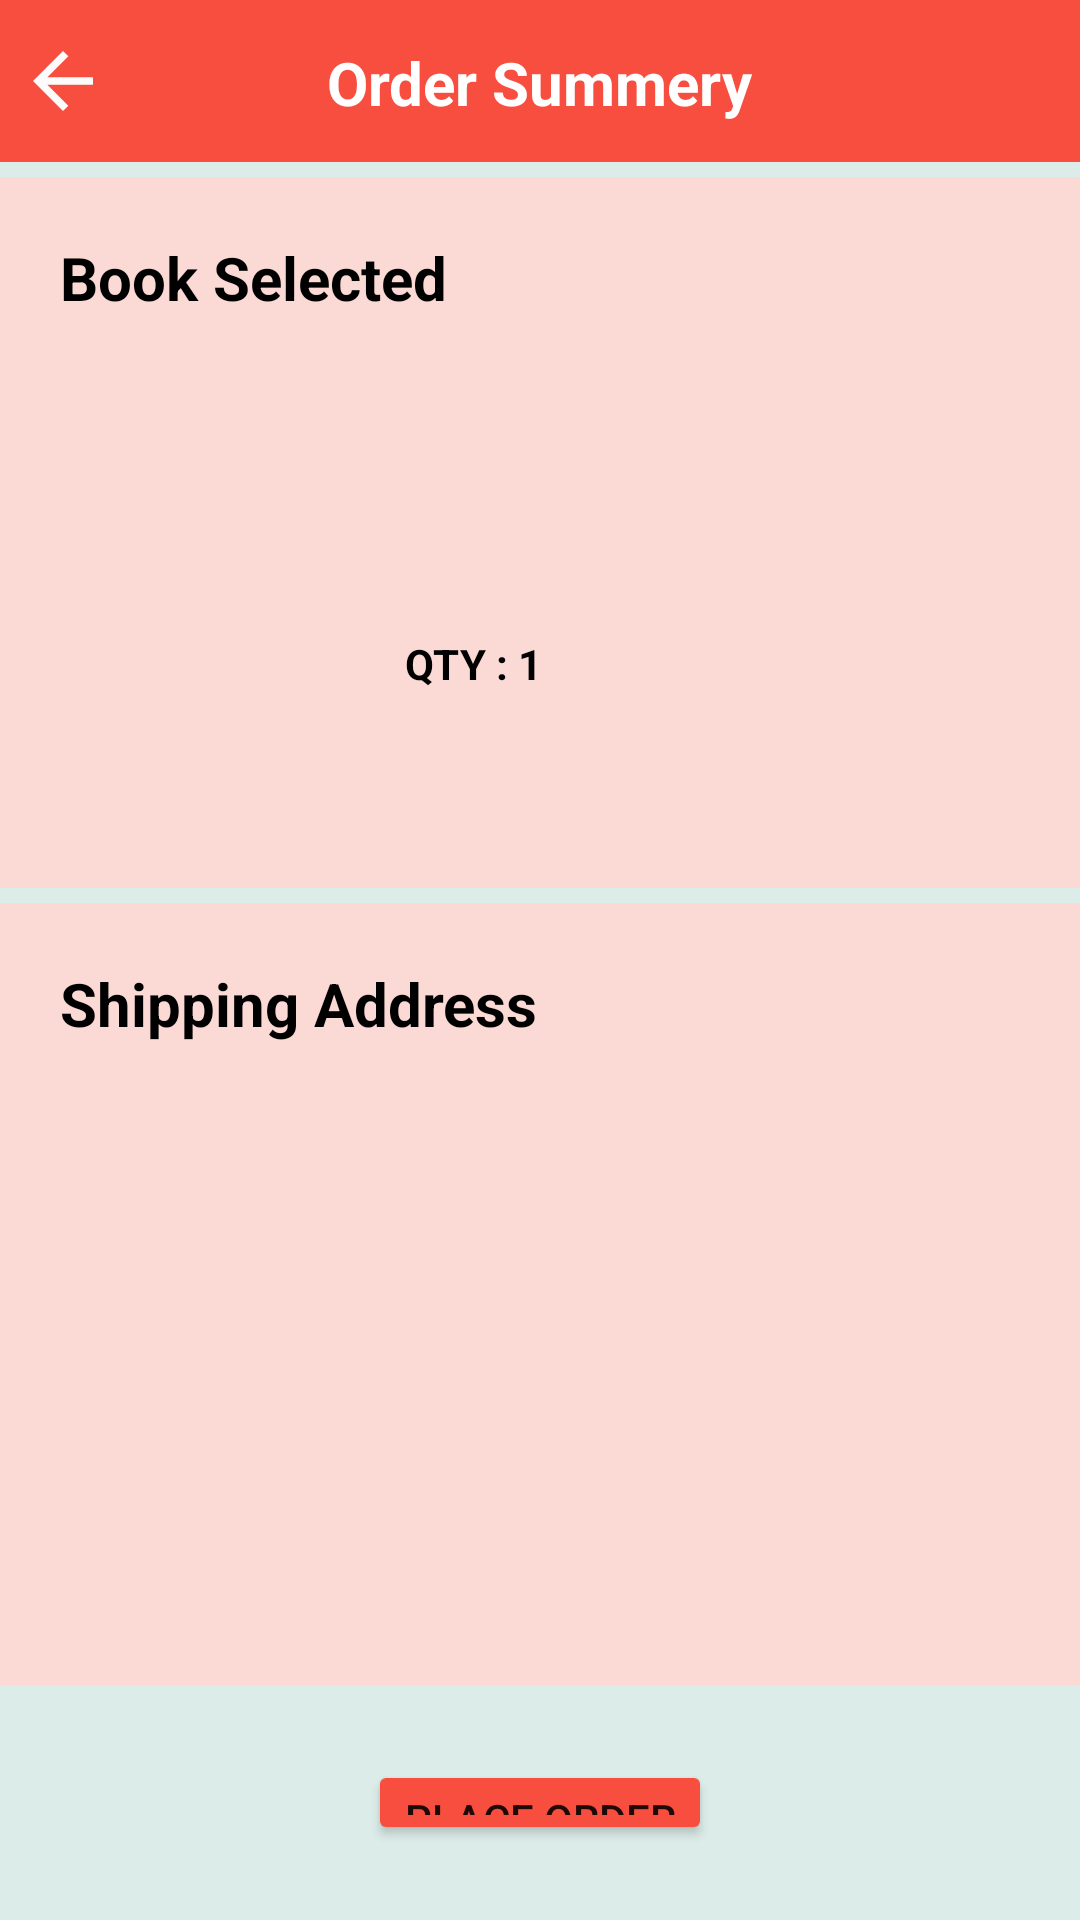

Screen size 1080*1920. Icon name, then its box in pixels as {"x1": x1, "y1": y1, "x2": x2, "y2": y2}:
arrow back: {"x1": 33, "y1": 51, "x2": 93, "y2": 111}
